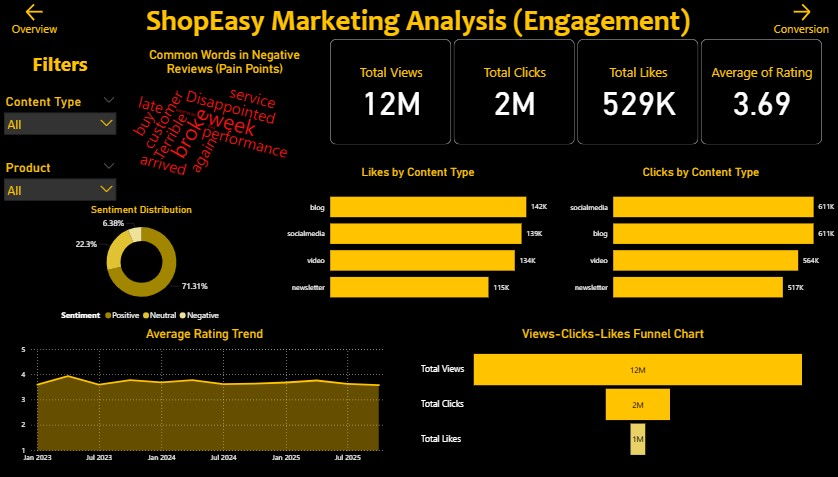

The page's visual inventory and layout, read from the dashboard file:
{"tool":"powerbi","page":{"name":"Engagement","canvas":[1400,800],"ordinal":7},"visuals":[{"type":"textbox","box":[0,0,1400,81.7],"z":0},{"type":"clusteredBarChart","title":"Likes by Content Type","fields":{"Category":["engagement_data.formatted_content_type"],"Y":["Sum(engagement_data.Likes)"]},"box":[471.7,276.7,456.7,245],"z":1000},{"type":"cardVisual","fields":{"Data":["Measures Table.Total Views","Measures Table.Total Clicks","Measures Table.Total Likes","Avg(customer_reviews_analyzed.Rating)"]},"box":[548.3,61.7,830,186.7],"z":2000},{"type":"donutChart","title":"Sentiment Distribution","fields":{"Category":["customer_reviews_analyzed.Sentiment"],"Y":["CountNonNull(customer_reviews_analyzed.Sentiment)"]},"box":[26.7,340,425,206.7],"z":3000},{"type":"funnel","title":"Views-Clicks-Likes Funnel Chart","fields":{"Y":["Measures Table.Total Views","Measures Table.Total Clicks","Measures Table.Total Likes"]},"box":[700,546.7,650,235],"z":4000},{"type":"WordCloud1447959067750","title":"Common Words in Negative Reviews (Pain Points)","fields":{"Category":["customer_reviews_analyzed.ReviewText"]},"box":[206.7,81.7,341.7,258.3],"z":5000},{"type":"textbox","box":[0,80.6,206.7,61.7],"z":6000},{"type":"slicer","fields":{"Values":["engagement_data.formatted_content_type"]},"box":[0,152.8,206.7,125],"z":7000},{"type":"slicer","fields":{"Values":["products.ProductName"]},"box":[0,263.3,206.7,125],"z":8000},{"type":"actionButton","box":[1278.3,0,121.7,68.3],"z":9000},{"type":"actionButton","box":[0,0,121.7,68.3],"z":10000},{"type":"areaChart","title":"Average Rating Trend","fields":{"Category":["customer_reviews_analyzed.ReviewDate.Variation.Date Hierarchy.Year","customer_reviews_analyzed.ReviewDate.Variation.Date Hierarchy.Quarter"],"Y":["Avg(customer_reviews_analyzed.Rating)"]},"box":[26.7,546.7,635,235],"z":11000},{"type":"clusteredBarChart","title":"Clicks by Content Type","fields":{"Category":["engagement_data.formatted_content_type"],"Y":["Sum(engagement_data.Clicks)"]},"box":[943.3,276.7,456.7,245],"z":12000}]}

Visuals, with their boxes in screenshot pixels (x1, y1, x2, y2), scaled from the page's 1400x800 canvas onto the 838x477 screenshot:
textbox: Rect(0, 0, 837, 49)
"Likes by Content Type" clusteredBarChart: Rect(282, 165, 556, 311)
cardVisual - Measures Table.Total Views x Measures Table.Total Clicks: Rect(328, 37, 825, 148)
"Sentiment Distribution" donutChart: Rect(16, 203, 270, 326)
"Views-Clicks-Likes Funnel Chart" funnel: Rect(419, 326, 808, 466)
"Common Words in Negative Reviews (Pain Points)" WordCloud1447959067750: Rect(124, 49, 328, 203)
textbox: Rect(0, 48, 124, 85)
slicer - engagement_data.formatted_content_type: Rect(0, 91, 124, 166)
slicer - products.ProductName: Rect(0, 157, 124, 232)
actionButton: Rect(765, 0, 837, 41)
actionButton: Rect(0, 0, 73, 41)
"Average Rating Trend" areaChart: Rect(16, 326, 396, 466)
"Clicks by Content Type" clusteredBarChart: Rect(565, 165, 837, 311)
